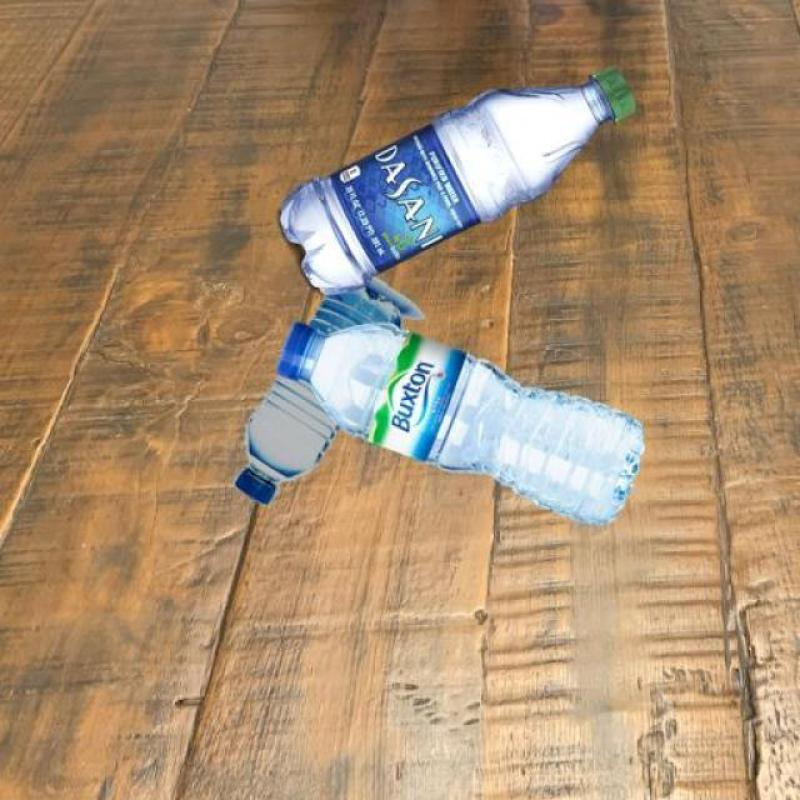botella: (276, 65, 642, 287), (278, 321, 642, 527), (238, 284, 400, 510)
